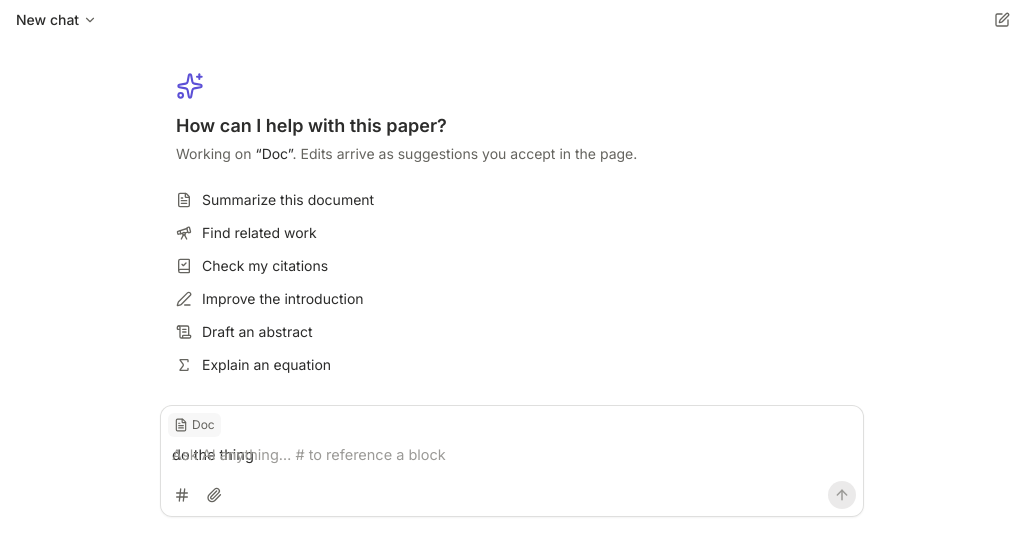
Test: the transcript after a turn › keeps the reply it just streamed instead of refetching it
The width and height of the screenshot is (1024, 534).
Clear the field: (213, 454) left=172, top=446, right=254, bottom=463
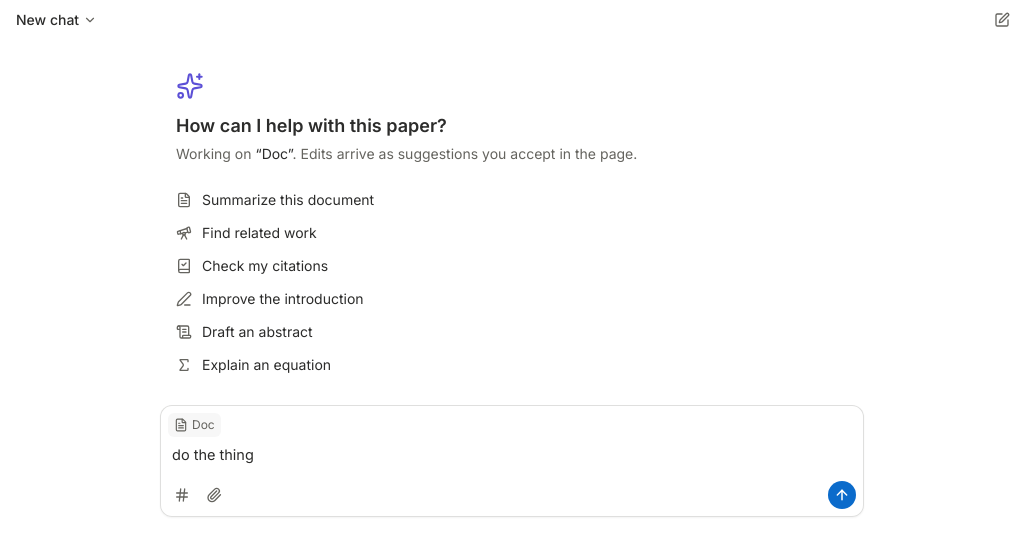
Click the button named "send message": click(842, 495) left=828, top=481, right=856, bottom=509
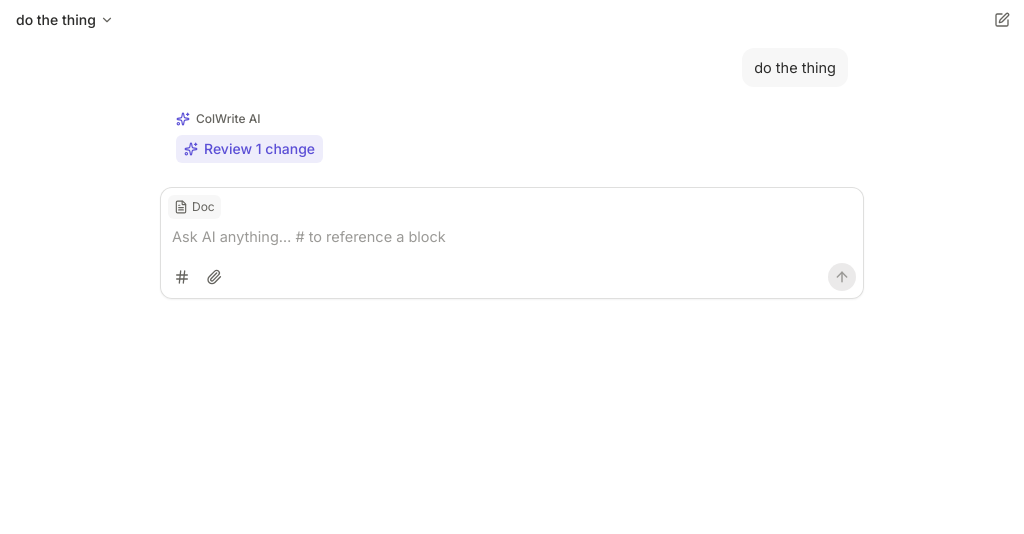
Check: the button "Review 1 change" is shown, box left=176, top=135, right=323, bottom=163
